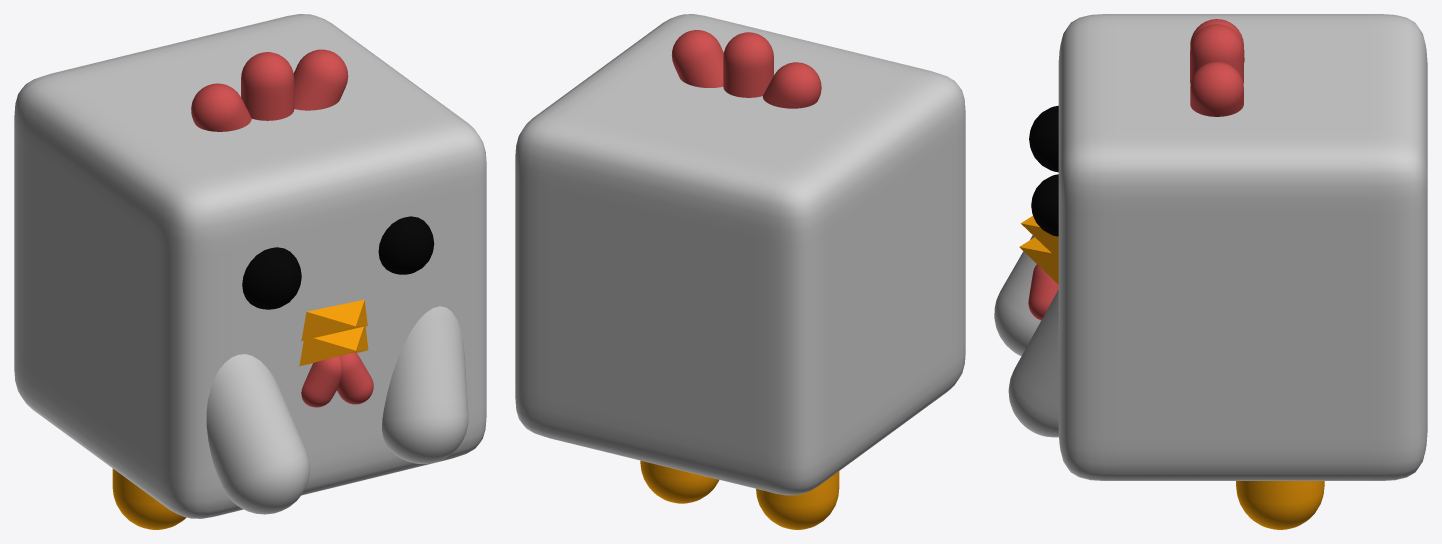
Rendered from Chicken.fbx.
The picture shows the model from 3 angles, left to right: view 1: azimuth 30°, elevation 25°; view 2: azimuth 150°, elevation 25°; view 3: azimuth 270°, elevation 25°; orthographic projection. The views are drawn at different scales.
Visible parts, largest first — view 1: Xiaoji_14, Xiaoji, Xiaoji_2, Xiaoji_7, Xiaoji_9, Xiaoji_6, Xiaoji_8, Xiaoji_5, Xiaoji_3, Xiaoji_10, Xiaoji_11, Xiaoji_13 (+1 smaller); view 2: Xiaoji_14, Xiaoji_7, Xiaoji_3, Xiaoji_6, Xiaoji_5, Xiaoji_4; view 3: Xiaoji_14, Xiaoji_2, Xiaoji_4, Xiaoji, Xiaoji_6, Xiaoji_7, Xiaoji_9, Xiaoji_8, Xiaoji_12, Xiaoji_11, Xiaoji_10.
Boxes of the visible parts, bbox=[...] form: Xiaoji_14: bbox=[14, 14, 486, 518]; Xiaoji: bbox=[206, 354, 309, 514]; Xiaoji_2: bbox=[382, 306, 468, 463]; Xiaoji_7: bbox=[241, 52, 294, 120]; Xiaoji_9: bbox=[242, 247, 301, 309]; Xiaoji_6: bbox=[293, 49, 348, 110]; Xiaoji_8: bbox=[378, 216, 434, 274]; Xiaoji_5: bbox=[191, 83, 251, 131]; Xiaoji_3: bbox=[112, 468, 186, 529]; Xiaoji_10: bbox=[301, 299, 367, 341]; Xiaoji_11: bbox=[299, 326, 368, 366]; Xiaoji_13: bbox=[301, 356, 341, 407]; Xiaoji_14: bbox=[515, 14, 965, 495]; Xiaoji_7: bbox=[723, 32, 773, 97]; Xiaoji_3: bbox=[756, 471, 839, 529]; Xiaoji_6: bbox=[671, 30, 723, 87]; Xiaoji_5: bbox=[763, 62, 821, 108]; Xiaoji_4: bbox=[640, 460, 719, 503]; Xiaoji_14: bbox=[1058, 14, 1427, 480]; Xiaoji_2: bbox=[1008, 290, 1058, 437]; Xiaoji_4: bbox=[1236, 481, 1324, 529]; Xiaoji: bbox=[994, 235, 1041, 356]; Xiaoji_6: bbox=[1190, 61, 1243, 116]; Xiaoji_7: bbox=[1190, 24, 1243, 83]; Xiaoji_9: bbox=[1029, 105, 1058, 172]; Xiaoji_8: bbox=[1031, 174, 1058, 236]; Xiaoji_12: bbox=[1028, 264, 1058, 320]; Xiaoji_11: bbox=[1019, 237, 1058, 284]; Xiaoji_10: bbox=[1021, 216, 1058, 259].
Bounding box in the file's own units: 200 × 287 × 235.
